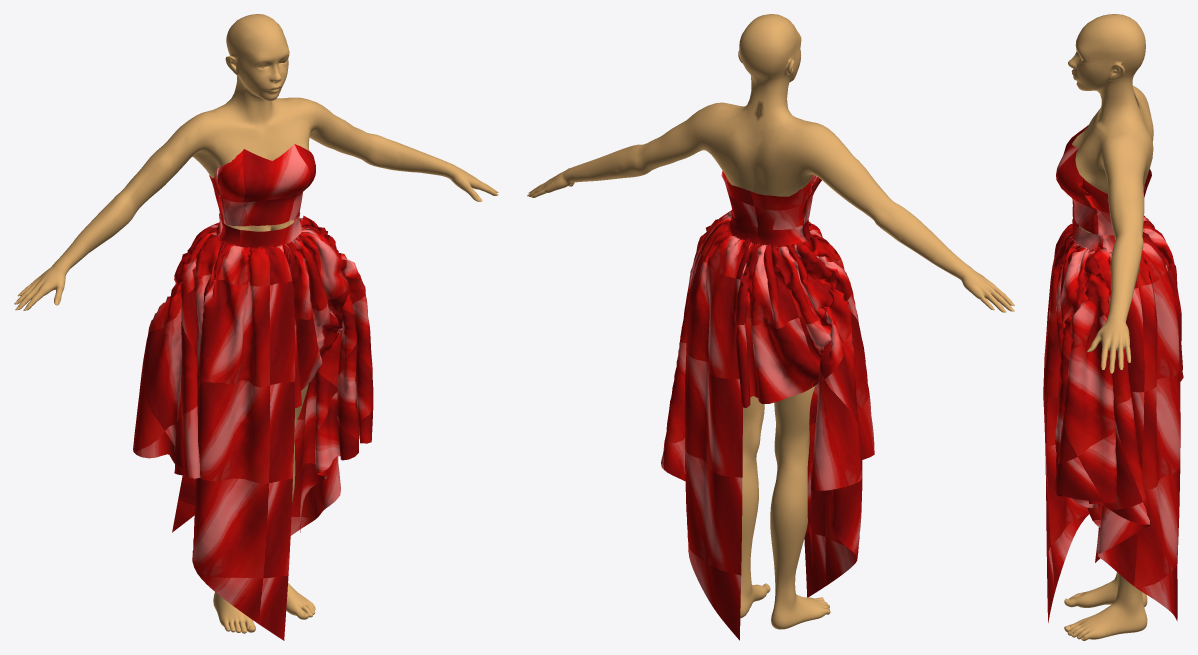
The model's file is dress2.glb.
3 renders of one model, left to right at view 1: azimuth 30°, elevation 25°; view 2: azimuth 150°, elevation 25°; view 3: azimuth 270°, elevation 25°, orthographic.
Visible parts, largest first — view 1: Project 1, Body; view 2: Project 1, Body; view 3: Project 1, Body.
Boxes of the visible parts, x1,y1,x2,y2 form: Project 1: [133, 144, 373, 640]; Body: [16, 14, 498, 633]; Project 1: [661, 171, 874, 640]; Body: [528, 14, 1011, 629]; Project 1: [1043, 125, 1183, 622]; Body: [1064, 14, 1153, 640].
Size of the model in its own units: 1.58 by 1.87 by 0.3896.
2 materials, 1 textured.
